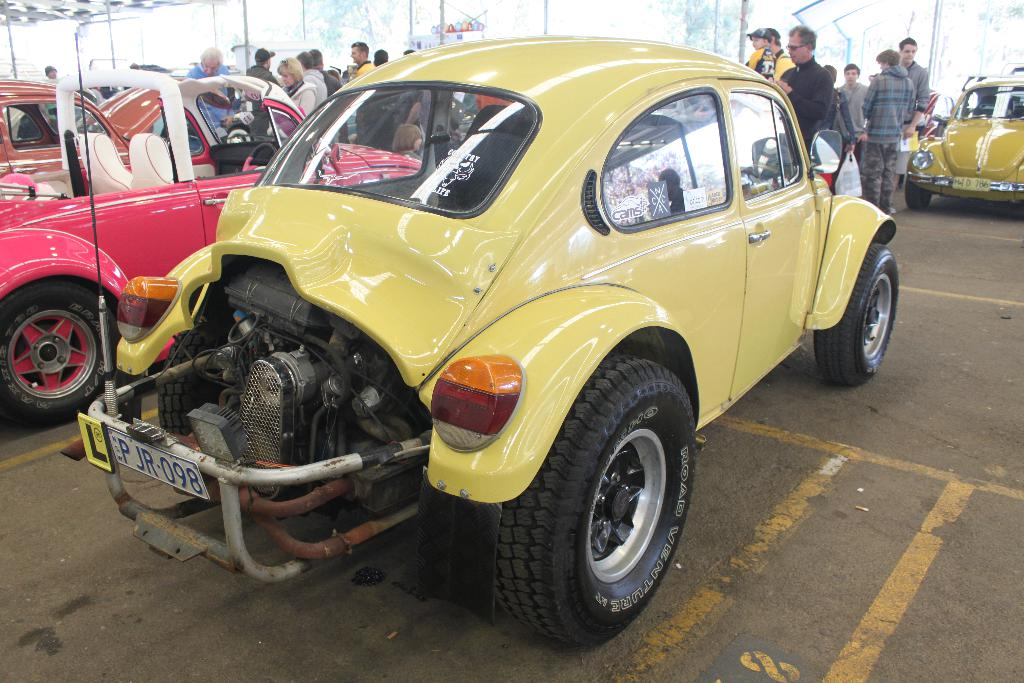Car: (73, 30, 899, 645), (0, 67, 423, 426), (0, 76, 231, 178), (902, 89, 1020, 205), (349, 93, 478, 141), (917, 90, 954, 137)
